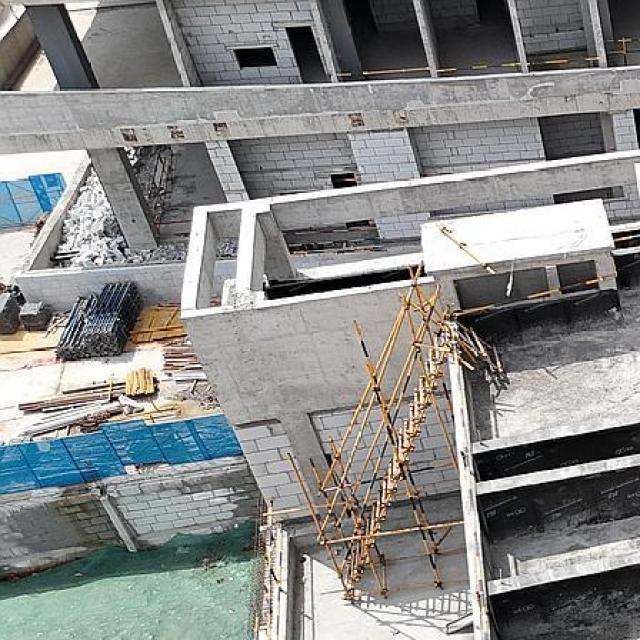edge_guardrail: (452, 327, 484, 640), (454, 274, 606, 317), (265, 498, 283, 640), (283, 227, 373, 247), (436, 60, 521, 74), (605, 36, 639, 65), (148, 147, 166, 197), (336, 68, 430, 76), (527, 56, 600, 66)
